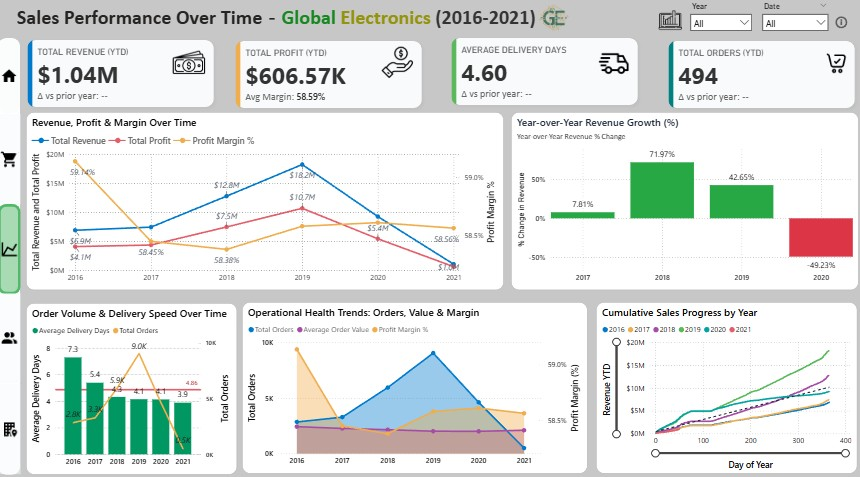

What the dashboard file says about the page in this screenshot:
{"tool":"powerbi","page":{"name":"Time","canvas":[1600,900],"ordinal":2},"visuals":[{"type":"textbox","box":[30,3,989,61],"z":0},{"type":"cardVisual","fields":{"Data":["sales_final.Average Delivery Days"]},"box":[828.6,60,370,150],"z":0,"group":"g3"},{"type":"cardVisual","fields":{"Data":["sales_final.Total Revenue YTD"]},"box":[42.5,62.5,370,150],"z":0,"group":"g1"},{"type":"cardVisual","fields":{"Data":["sales_final.Total Profit YTD"]},"box":[428.6,64.3,370,150],"z":0,"group":"g2"},{"type":"cardVisual","fields":{"Data":["sales_final.Total Orders YTD"]},"box":[1230,65,370,150],"z":0,"group":"g4"},{"type":"shape","box":[0,72,41,809],"z":0,"group":"g5"},{"type":"group","id":"g1","title":"Card_1","box":[42.5,62.5,370,150],"z":1000},{"type":"image","box":[707.2,83.6,67.5,67.5],"z":1000,"group":"g2"},{"type":"image","box":[318.7,83.7,70,67.5],"z":1000,"group":"g1"},{"type":"image","box":[1104.7,87.5,72.5,65],"z":1000,"group":"g3"},{"type":"image","box":[1522.9,90.7,60,55.7],"z":1000,"group":"g4"},{"type":"actionButton","box":[0,212,42,167.5],"z":1000,"group":"g5"},{"type":"group","id":"g2","title":"Card_2","box":[428.6,64.3,370,150],"z":2000},{"type":"actionButton","box":[0,379.5,42,167.5],"z":2000,"group":"g5"},{"type":"group","id":"g3","title":"Card_3","box":[828.6,60,370,150],"z":3000},{"type":"actionButton","box":[0,712.5,42,167.5],"z":3000,"group":"g5"},{"type":"group","id":"g4","title":"Card_4","box":[1230,65,370,150],"z":3500},{"type":"image","title":"More_visuals","box":[1218.8,5,52.5,66.2],"z":4000},{"type":"actionButton","box":[0,545,42,167.5],"z":4000,"group":"g5"},{"type":"actionButton","box":[0,72,41,140],"z":4500,"group":"g5"},{"type":"image","title":"Logo","box":[989,5,78,59],"z":5000},{"type":"lineChart","title":"Revenue, Profit & Margin Over Time","fields":{"Y":["sales_final.Total Revenue","sales_final.Total Profit"],"Y2":["sales_final.Profit Margin %"],"Category":["Calendar.Date.Variation.Date Hierarchy.Year","Calendar.Date.Variation.Date Hierarchy.Quarter","Calendar.Date.Variation.Date Hierarchy.Month","Calendar.Date.Variation.Date Hierarchy.Day"]},"box":[52.5,210,885,330],"z":6000},{"type":"clusteredColumnChart","title":"Year-over-Year Revenue Growth (%)","fields":{"Y":["sales_final.Revenue Growth YoY %"],"Category":["Calendar.Year"]},"box":[950,210,644,330],"z":7000},{"type":"lineClusteredColumnComboChart","title":"Order Volume & Delivery Speed Over Time","fields":{"Y":["sales_final.Average Delivery Days"],"Y2":["sales_final.Total Orders"],"Category":["Calendar.Date.Variation.Date Hierarchy.Year","Calendar.Date.Variation.Date Hierarchy.Quarter","Calendar.Date.Variation.Date Hierarchy.Month","Calendar.Date.Variation.Date Hierarchy.Day"]},"box":[51.2,562.5,391.2,317.5],"z":8000},{"type":"lineChart","title":"Cumulative Sales Progress by Year","fields":{"Y":["sales_final.Total Revenue YTD"],"Series":["Calendar.Year"],"Category":["Calendar.Day of Year"]},"box":[1108,562,484,318],"z":9000},{"type":"areaChart","title":"Operational Health Trends: Orders, Value & Margin","fields":{"Y":["sales_final.Total Orders","sales_final.Average Order Value"],"Y2":["sales_final.Profit Margin %"],"Category":["Calendar.Date.Variation.Date Hierarchy.Year","Calendar.Date.Variation.Date Hierarchy.Quarter","Calendar.Date.Variation.Date Hierarchy.Month","Calendar.Date.Variation.Date Hierarchy.Day"]},"box":[452,562,640,318],"z":10000},{"type":"actionButton","box":[1546.4,28.2,33.6,30.9],"z":11000},{"type":"group","id":"g5","title":"Page_nav","box":[0,72,42,809],"z":12000},{"type":"slicer","fields":{"Values":["Calendar.Date.Variation.Date Hierarchy.Quarter"]},"box":[1406,0,142,68],"z":15000},{"type":"slicer","fields":{"Values":["Calendar.Year"]},"box":[1272,0,134,68],"z":16000}]}

Visuals, with their boxes in screenshot pixels (x1, y1, x2, y2), scaled from the page's 1600x900 canvas onto the 860x477 screenshot:
textbox: rect(16, 2, 548, 34)
cardVisual - sales_final.Average Delivery Days: rect(445, 32, 644, 111)
cardVisual - sales_final.Total Revenue YTD: rect(23, 33, 222, 113)
cardVisual - sales_final.Total Profit YTD: rect(230, 34, 429, 114)
cardVisual - sales_final.Total Orders YTD: rect(661, 34, 859, 114)
shape: rect(0, 38, 22, 467)
"Card_1" group: rect(23, 33, 222, 113)
image: rect(380, 44, 416, 80)
image: rect(171, 44, 209, 80)
image: rect(594, 46, 633, 81)
image: rect(819, 48, 851, 78)
actionButton: rect(0, 112, 23, 201)
"Card_2" group: rect(230, 34, 429, 114)
actionButton: rect(0, 201, 23, 290)
"Card_3" group: rect(445, 32, 644, 111)
actionButton: rect(0, 378, 23, 466)
"Card_4" group: rect(661, 34, 859, 114)
"More_visuals" image: rect(655, 3, 683, 38)
actionButton: rect(0, 289, 23, 378)
actionButton: rect(0, 38, 22, 112)
"Logo" image: rect(532, 3, 574, 34)
"Revenue, Profit & Margin Over Time" lineChart: rect(28, 111, 504, 286)
"Year-over-Year Revenue Growth (%)" clusteredColumnChart: rect(511, 111, 857, 286)
"Order Volume & Delivery Speed Over Time" lineClusteredColumnComboChart: rect(28, 298, 238, 466)
"Cumulative Sales Progress by Year" lineChart: rect(596, 298, 856, 466)
"Operational Health Trends: Orders, Value & Margin" areaChart: rect(243, 298, 587, 466)
actionButton: rect(831, 15, 849, 31)
"Page_nav" group: rect(0, 38, 23, 467)
slicer - Calendar.Date.Variation.Date Hierarchy.Quarter: rect(756, 0, 832, 36)
slicer - Calendar.Year: rect(684, 0, 756, 36)
